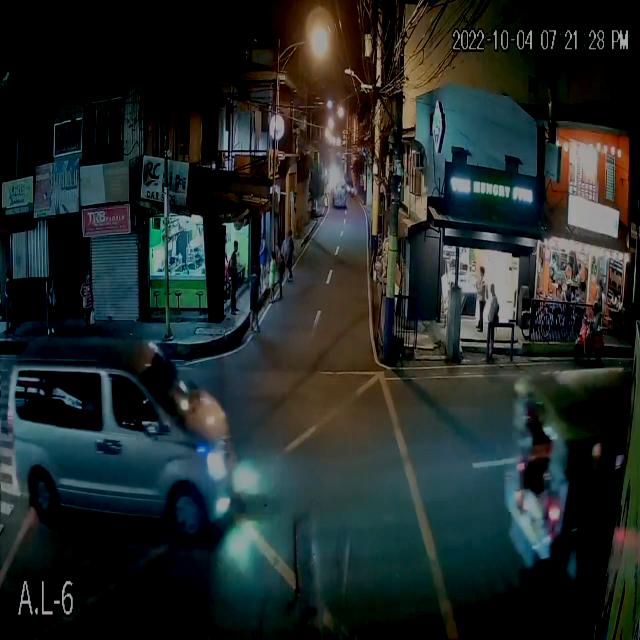Full-Faced: (591, 301, 602, 316)
